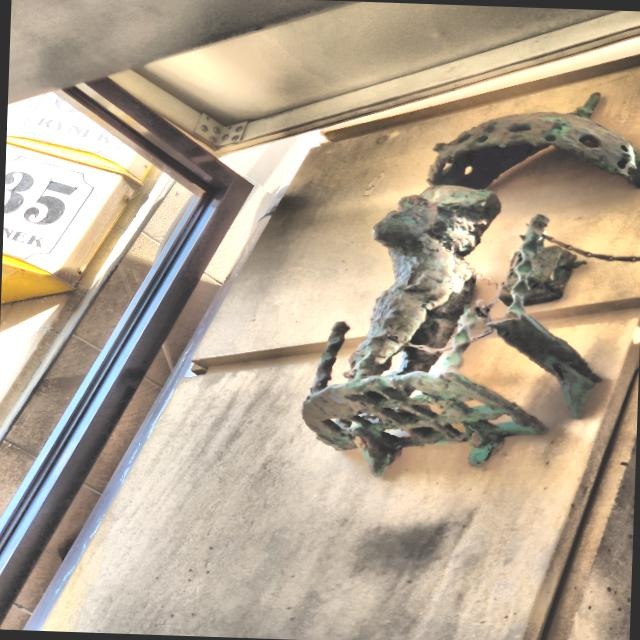Dryndek: (302, 93, 640, 475)
